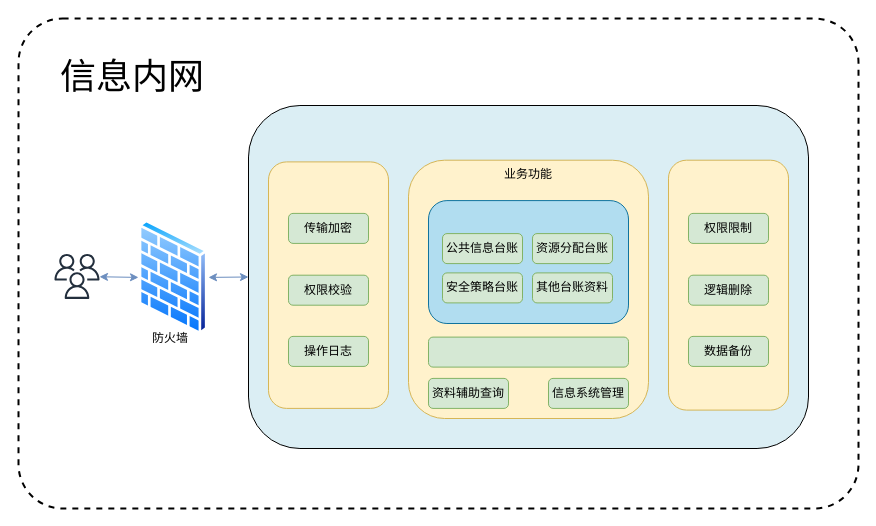
The diagram is 876 pixels wide and 526 high, and some of its shapes have lost their labels. Each missing label, with the box of its shape:
信息系统统一编码台账管控平台: (248, 104, 808, 448)
台账概览: (428, 336, 628, 367)
接入安全防护: (268, 161, 388, 408)
数据安全防护: (668, 159, 788, 410)
统一编码台账管理: (428, 200, 628, 324)
